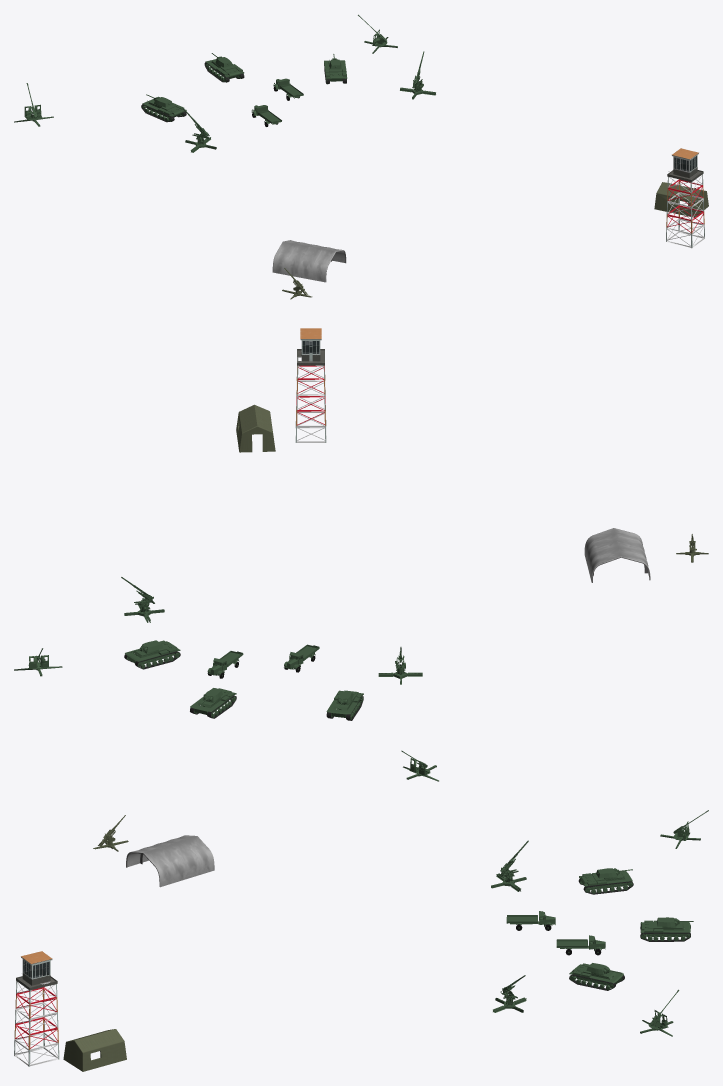
Rendered from ThirdShockArmy.glb.
3 renders of one model, top to bottom at view 1: azimuth 30°, elevation 25°; view 2: azimuth 150°, elevation 25°; view 3: azimuth 270°, elevation 25°, orthographic. The views are drawn at different scales.
Parts seen in each view (by area): view 1: Plane, defaultMaterial.263, clothBuilding001_Material #67_0, Box001_Main Tent_0; view 2: Plane, defaultMaterial.263, clothBuilding001_Material #67_0, Box001_Main Tent_0; view 3: Plane, defaultMaterial.263, clothBuilding001_Material #67_0, Box001_Main Tent_0, Object_14, Object_14.001.
Part boxes in pixels (box(x1,y1,x2,y2)): Plane: box(141, 53, 347, 126); defaultMaterial.263: box(666, 148, 704, 248); clothBuilding001_Material #67_0: box(272, 240, 346, 282); Box001_Main Tent_0: box(654, 182, 708, 217); Plane: box(124, 640, 363, 720); defaultMaterial.263: box(295, 328, 326, 442); clothBuilding001_Material #67_0: box(584, 528, 650, 582); Box001_Main Tent_0: box(236, 404, 275, 452); Plane: box(506, 868, 693, 990); defaultMaterial.263: box(14, 951, 59, 1066); clothBuilding001_Material #67_0: box(126, 835, 214, 887); Box001_Main Tent_0: box(63, 1029, 126, 1071); Object_14: box(491, 840, 528, 891); Object_14.001: box(493, 975, 526, 1012).
Bounding box in the file's own units: 218 × 41.82 × 262.
Materials: 26 (5 with a texture image).
